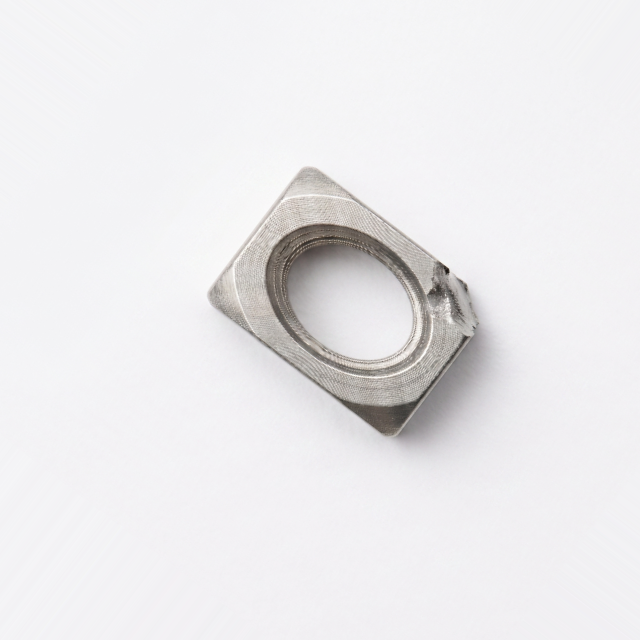defect: (432, 258, 479, 342)
